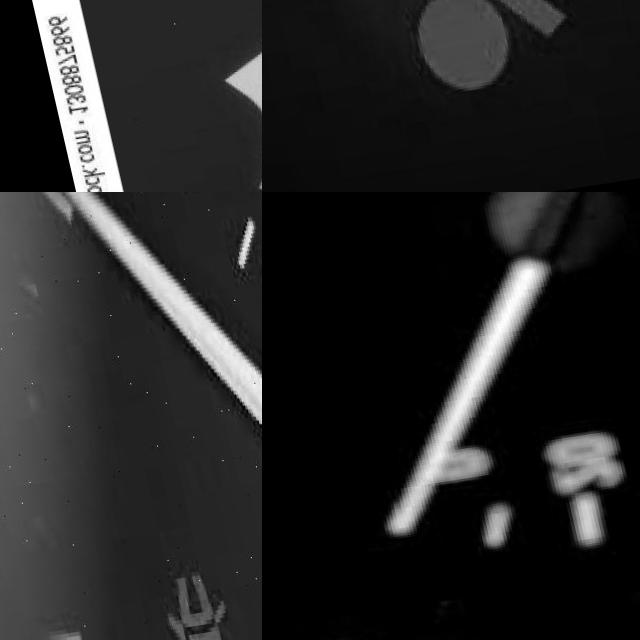Seat Belt: (262, 0, 614, 117), (143, 578, 225, 640)
Washer Fluid: (193, 0, 262, 192)
